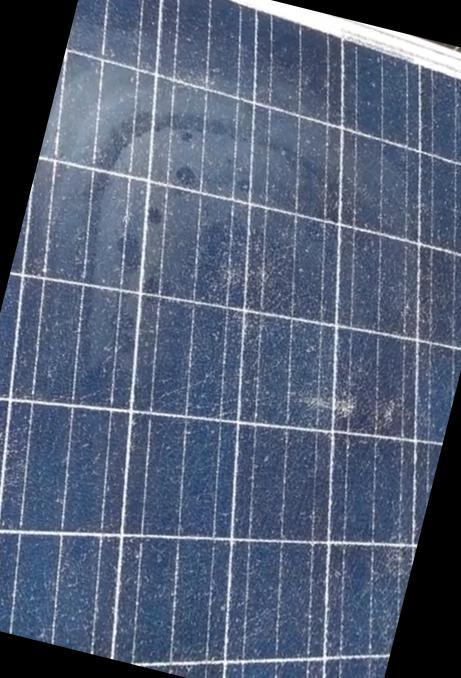Crack: (292, 372, 364, 433)
